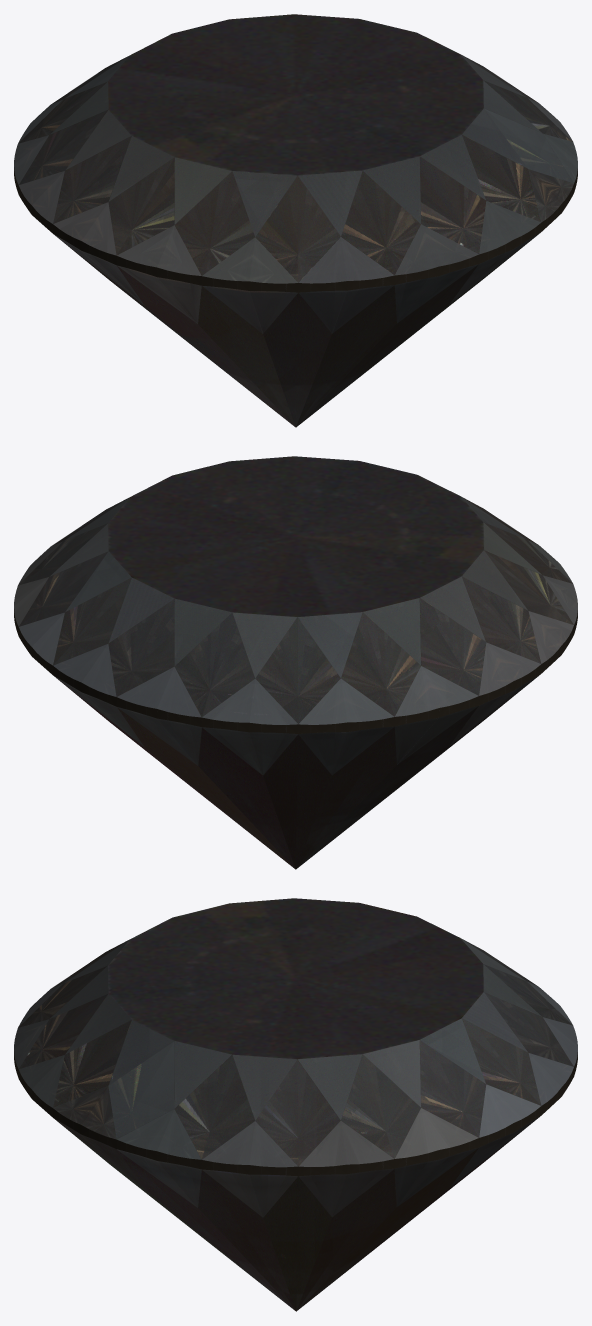
Rendered from dIamond_baked.glb.
The picture shows the model from 3 angles, top to bottom: view 1: azimuth 30°, elevation 25°; view 2: azimuth 150°, elevation 25°; view 3: azimuth 270°, elevation 25°; orthographic projection.
Parts seen in each view (by area): view 1: Diamond; view 2: Diamond; view 3: Diamond.
Part boxes in pixels (x1=…): Diamond: x1=14, y1=14, x2=577, y2=427; Diamond: x1=14, y1=456, x2=577, y2=869; Diamond: x1=14, y1=898, x2=577, y2=1311.
Bounding box in the file's own units: 3.86 × 2.51 × 3.86.
Materials: 1 (1 with a texture image).
